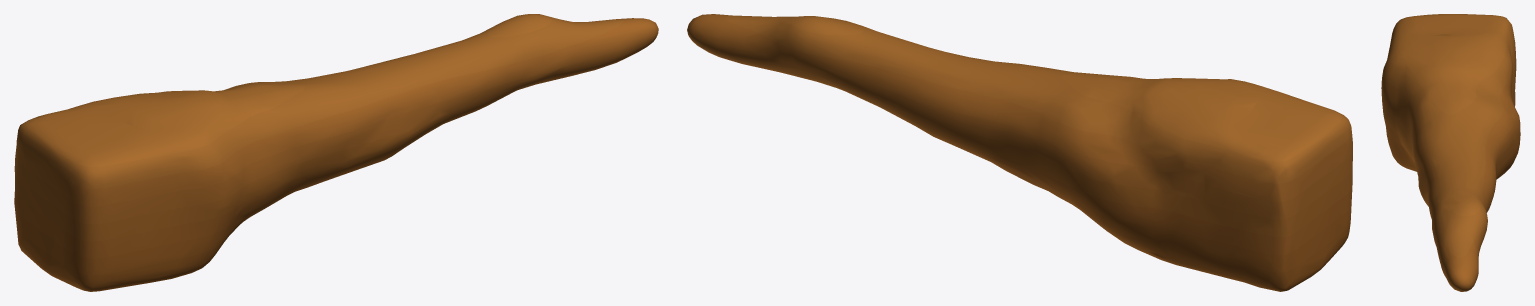
The model's file is Branch1 B2.fbx.
The picture shows the model from 3 angles, left to right: view 1: azimuth 30°, elevation 25°; view 2: azimuth 150°, elevation 25°; view 3: azimuth 270°, elevation 25°; orthographic projection. The views are drawn at different scales.
Parts seen in each view (by area): view 1: Branch1 B2; view 2: Branch1 B2; view 3: Branch1 B2.
Part boxes in pixels (x1,y1,x2,y2): Branch1 B2: (14, 14, 658, 291); Branch1 B2: (687, 14, 1352, 291); Branch1 B2: (1381, 14, 1520, 291).
Size of the model in its own units: 31.23 by 7.51 by 7.46.
